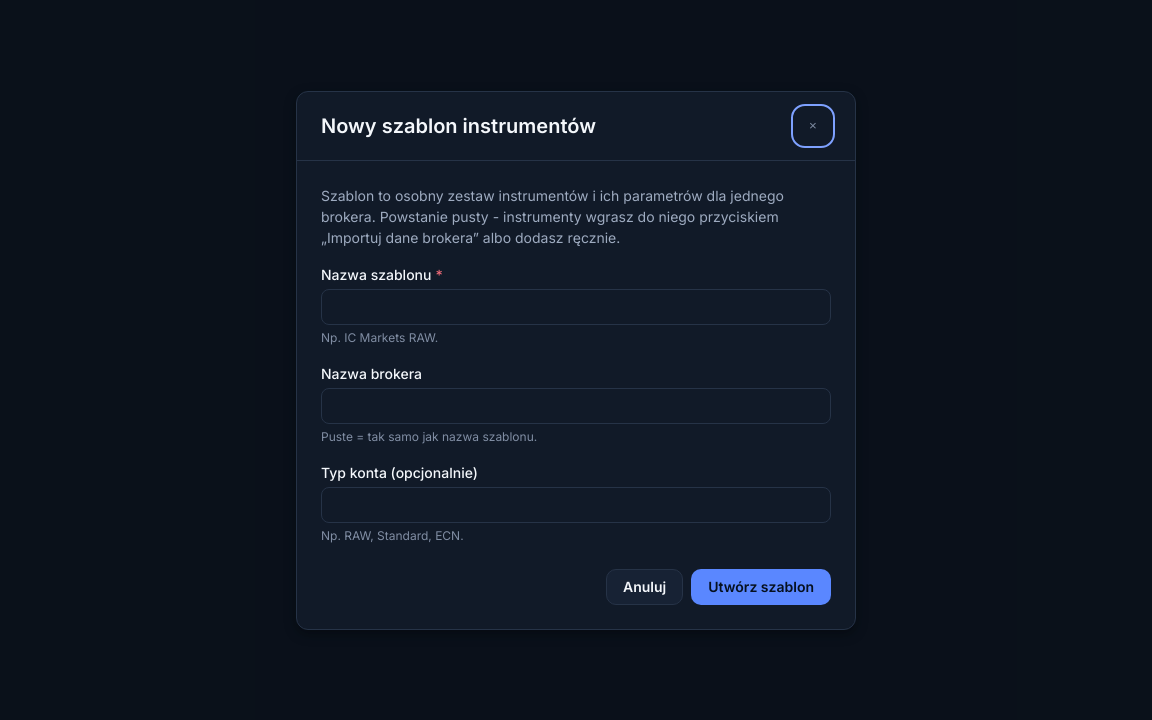
Test case: NewTemplateModal - wynik zapisu › błąd backendu pokazuje jego komunikat, nie zamyka okna
Type "Duplikat" into the field labelled "Nazwa szablonu*". click: (576, 306)
box: [321, 288, 831, 324]
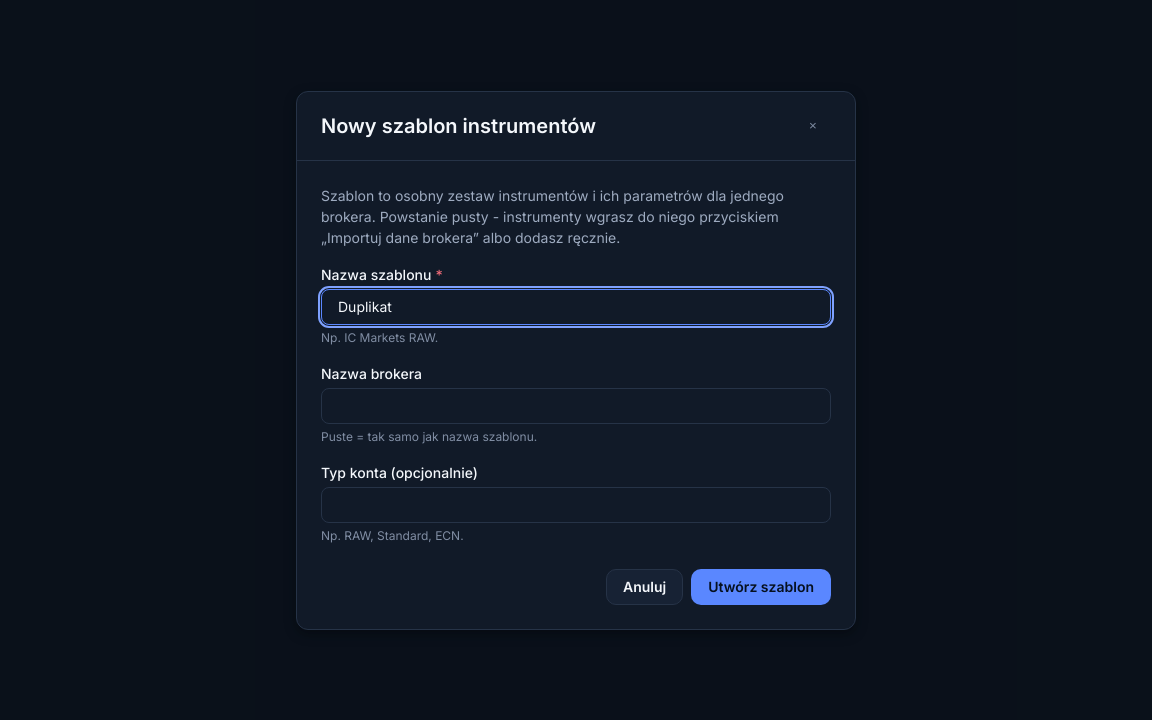
Click the button "Utwórz szablon". click: (761, 586)
box: [691, 568, 831, 604]
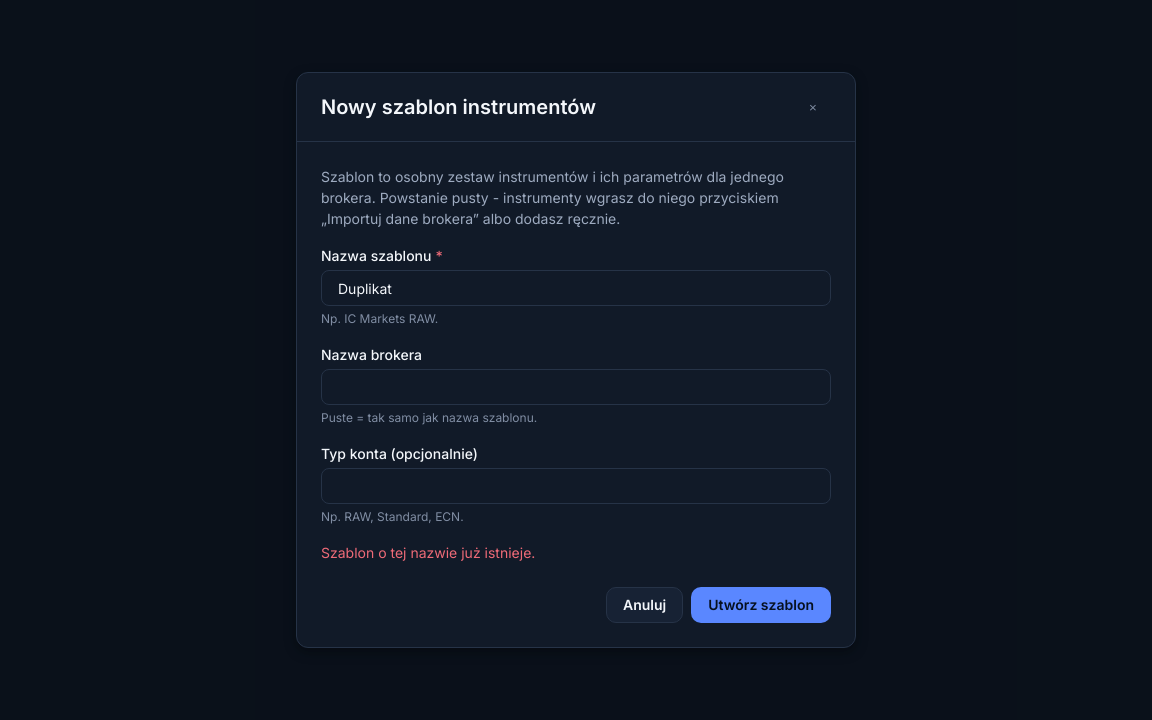
Expected: the message reads "Szablon o tej nazwie już istnieje.", [321, 544, 535, 561]
